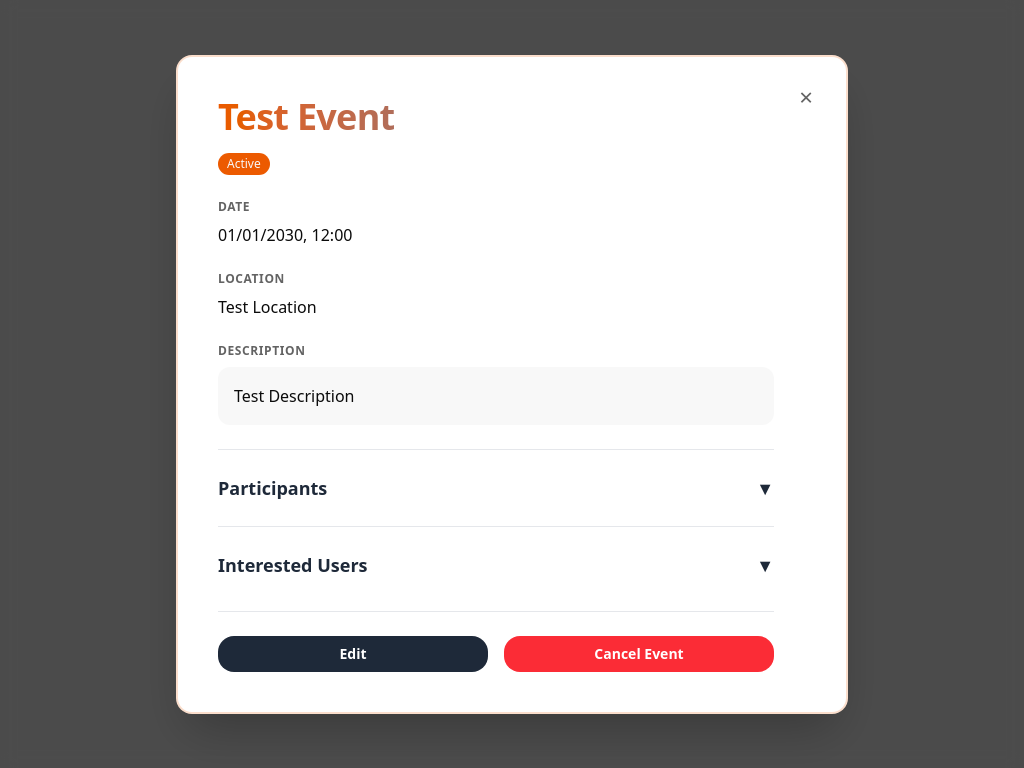
Test: EventModal Cancel/Reactivate Functionality › cancels event and shows Reactivate Event button
Click the button "Cancel Event" at x=639, y=654, box left=504, top=636, right=774, bottom=672
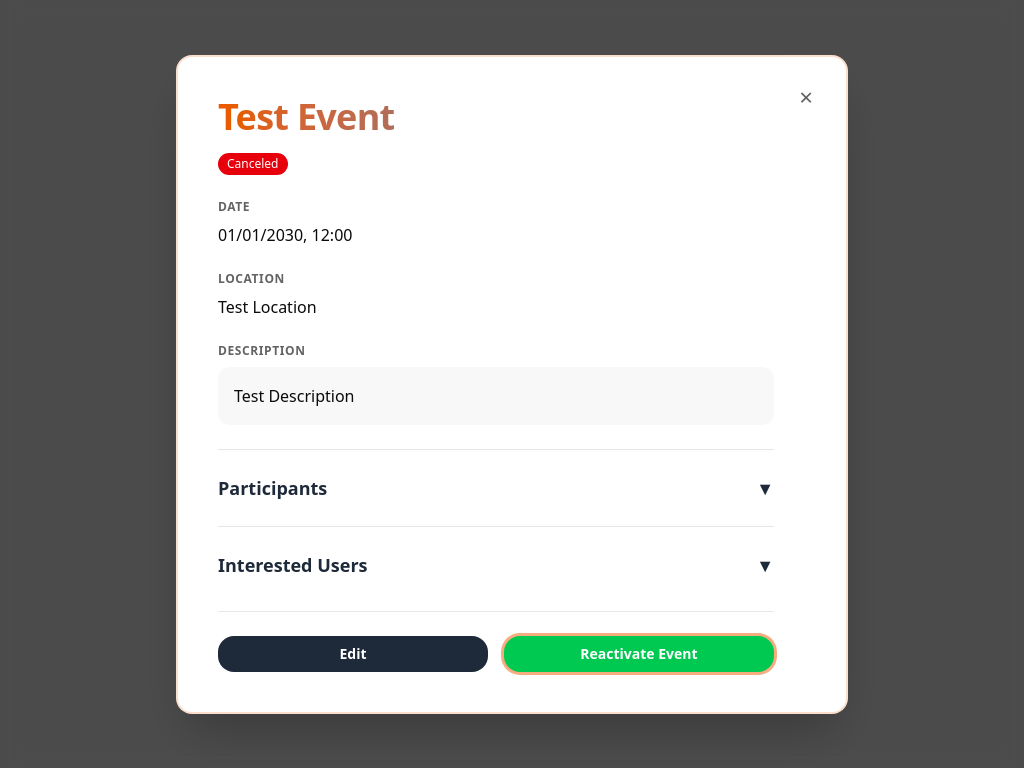
Expected: the button "Reactivate Event" is shown, left=504, top=636, right=774, bottom=672
Expected: the text "Canceled" is shown, left=218, top=152, right=288, bottom=174
